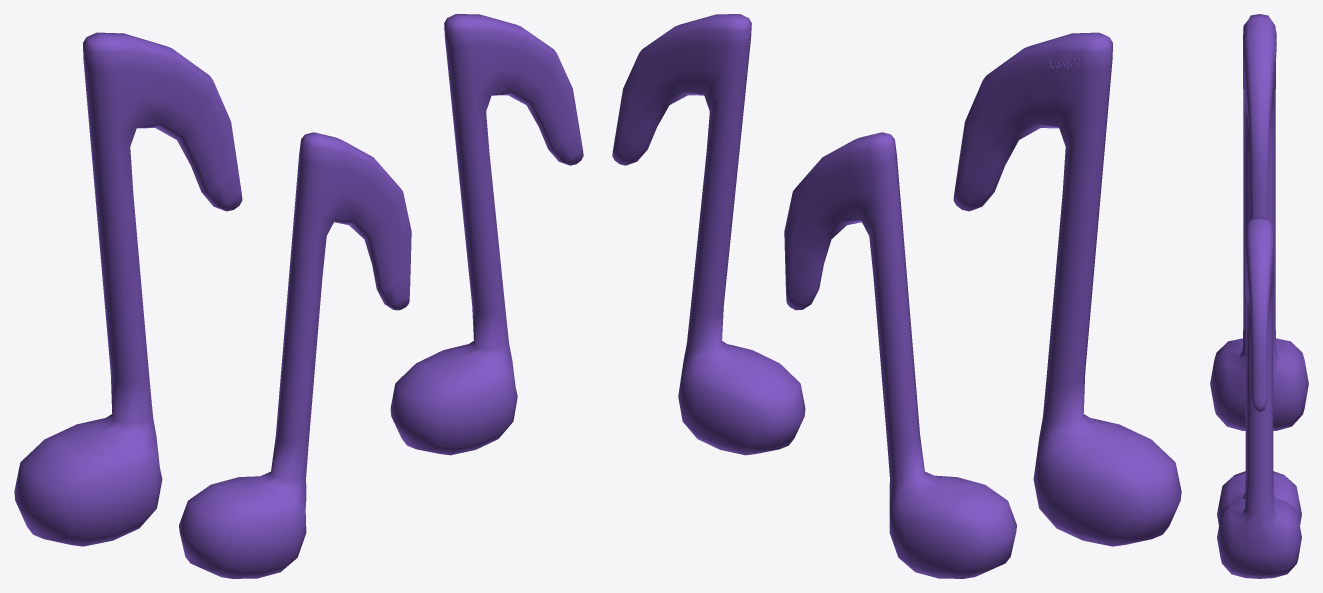
File: musical_notes.fbx
The picture shows the model from 3 angles, left to right: view 1: azimuth 30°, elevation 25°; view 2: azimuth 150°, elevation 25°; view 3: azimuth 270°, elevation 25°; orthographic projection. The views are drawn at different scales.
Visible parts, largest first — view 1: Cube.823; view 2: Cube.823; view 3: Cube.823.
Part boxes in pixels (x1,y1,x2,y2): Cube.823: (14,14,583,578); Cube.823: (612,14,1181,578); Cube.823: (1210,14,1308,578).
Size of the model in its own units: 212 by 205 by 38.9.
Materials: 1 (1 with a texture image).
